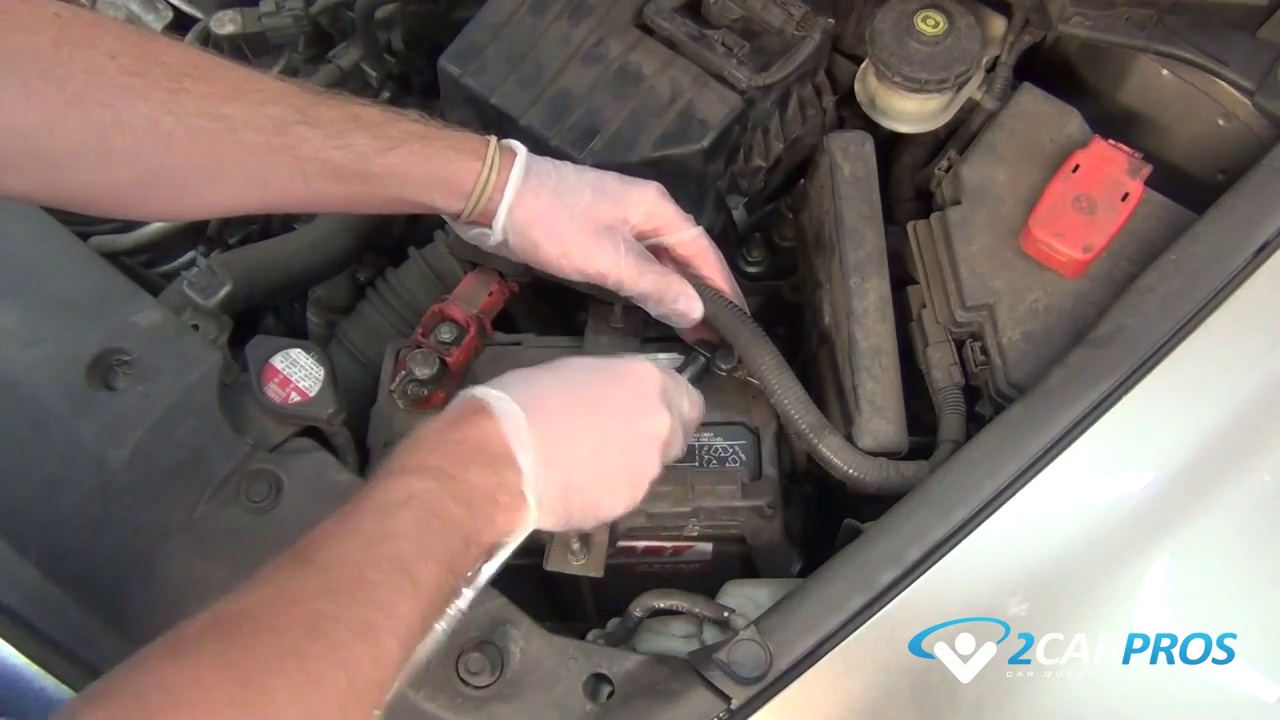battery: (389, 297, 778, 547)
neg_touched: (636, 283, 795, 438)
pos_connected: (367, 281, 500, 422)
